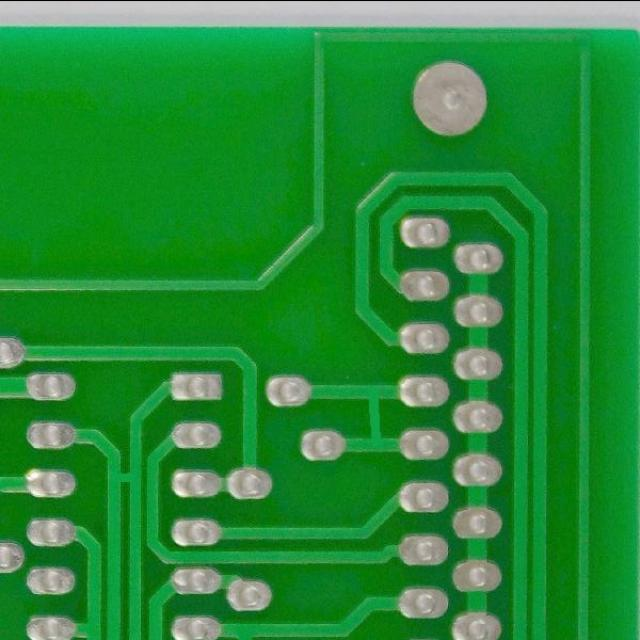short: (352, 372, 393, 460), (100, 458, 140, 500)
